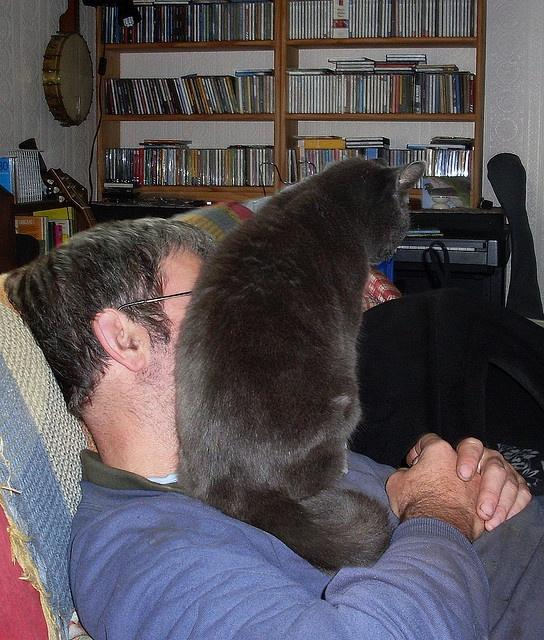Rak: (278, 0, 486, 202), (94, 0, 280, 198)
